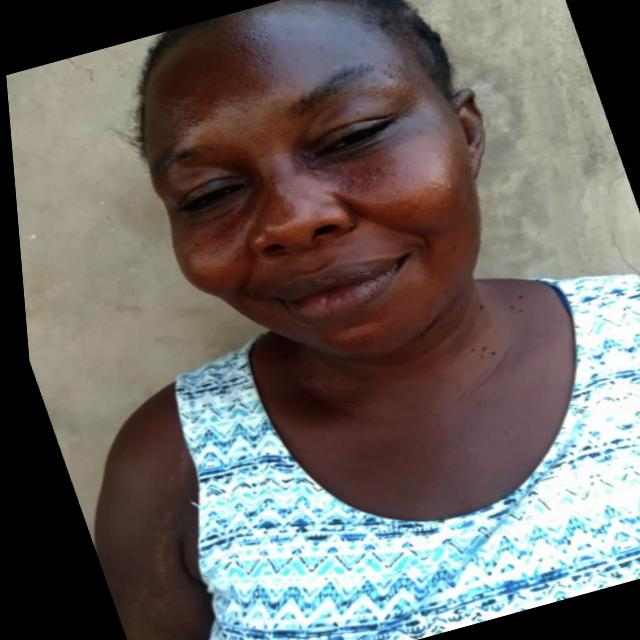happy: (79, 0, 555, 409)
